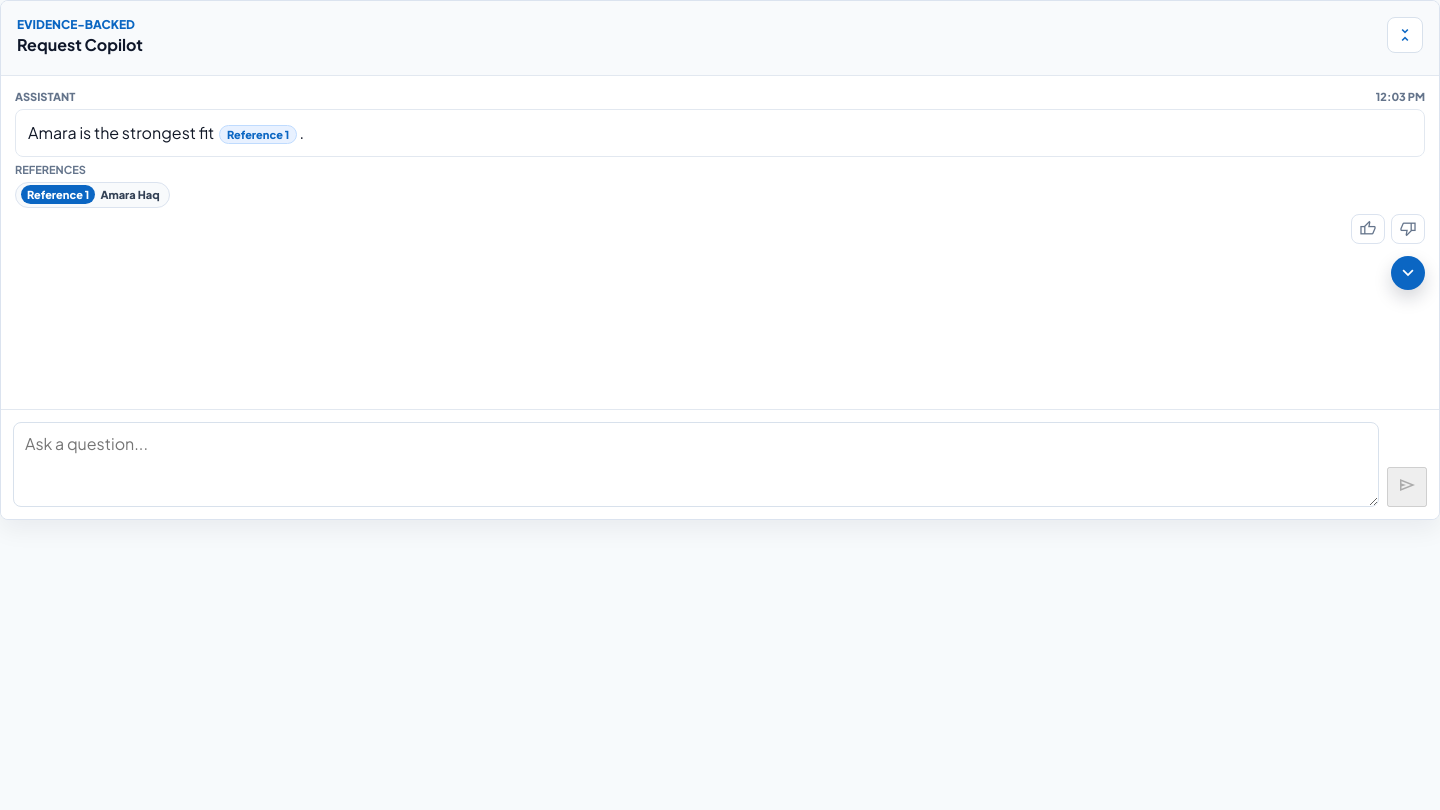
Scenario: RagAssistantPanelComponent › opens the structured evidence preview from inline citation references
Hover over the button with class "rag-inline-reference" at [258, 134], box [219,125,297,144]
Expected: the text "Evidence preview" is not shown
Click the button with class "rag-inline-reference" at [258, 134], box [219,125,297,144]
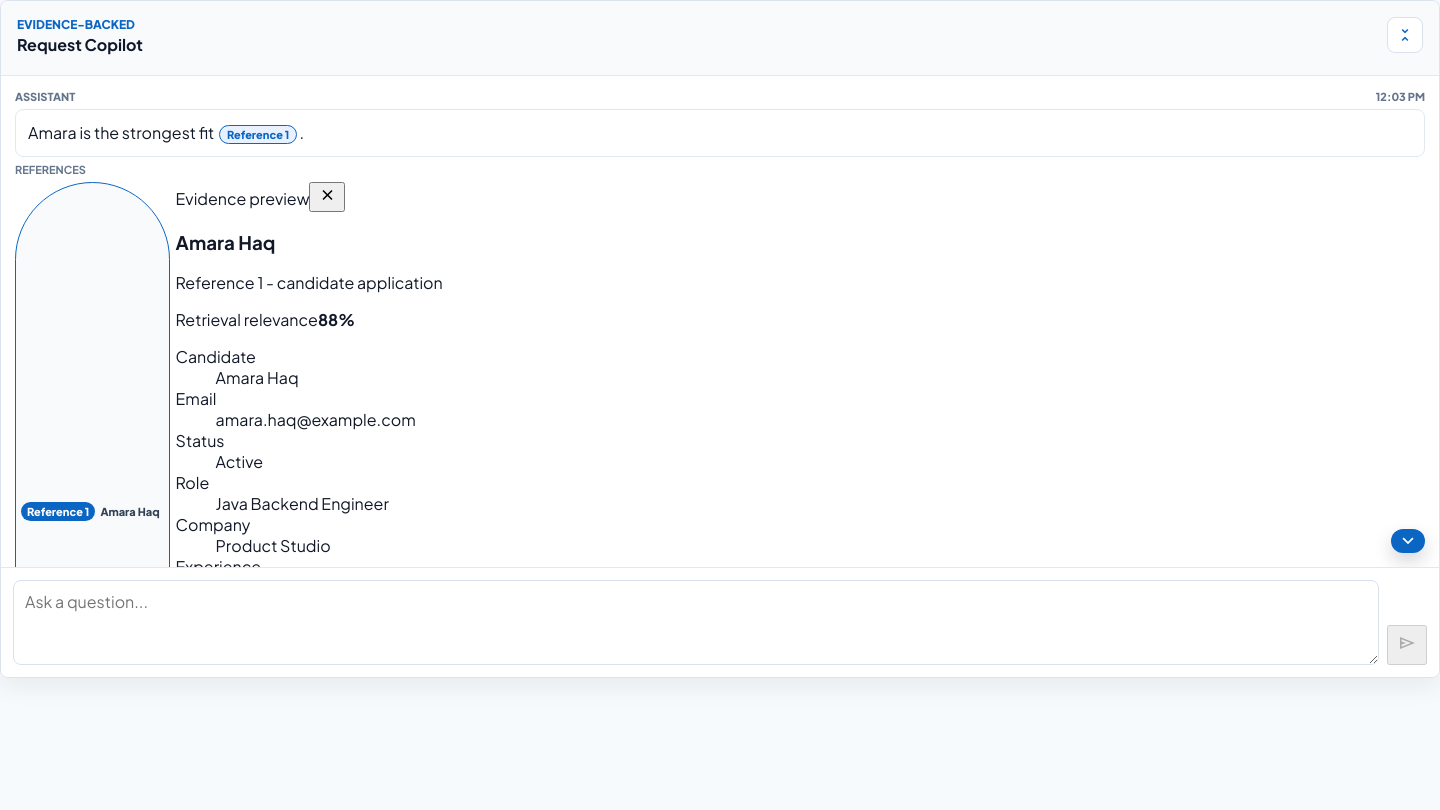
Expected: the text "Evidence preview" is shown, [176,188,310,209]
Expected: the text "Reference 1 - candidate application" is shown, [176,272,443,293]
Expected: the text "Retrieval relevance" is shown, [176,309,318,330]
